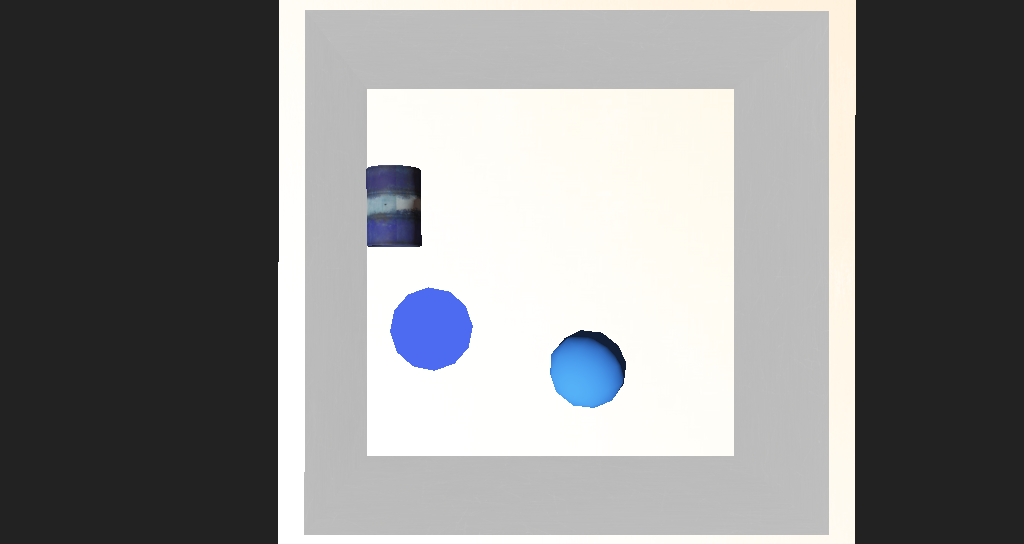cone: (350, 205, 404, 253)
cylinder: (374, 277, 448, 324)
sphere: (499, 303, 566, 346)
